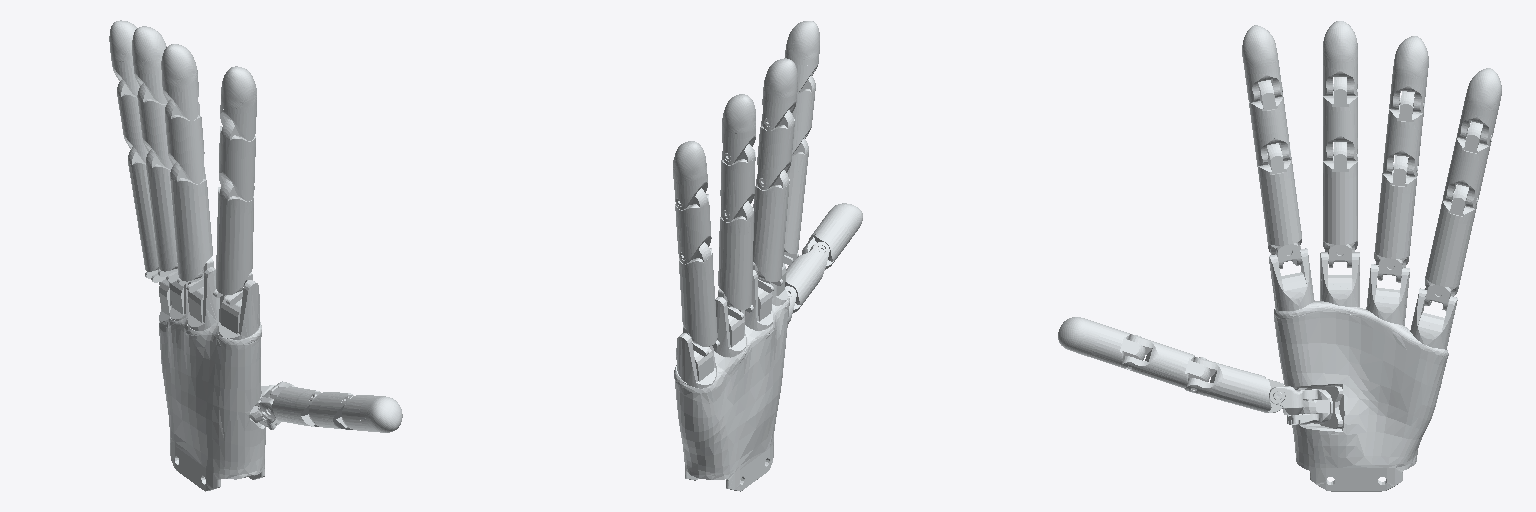
--- Render facts (derived) ---
The picture shows the robot from 3 angles, left to right: view 1: azimuth 30°, elevation 25°; view 2: azimuth 150°, elevation 25°; view 3: azimuth 270°, elevation 25°; orthographic projection.
Robot: wujihand-left-v1.0.1 — 26 links, 25 joints (20 revolute, 5 fixed); root link palm_link; default pose: every joint at zero.
Visible links, largest first — view 1: palm_link, finger3_link2, finger2_link2, finger4_link2, finger3_link3, finger2_link3, finger5_link2, finger4_link3, finger3_tip_link, finger2_tip_link, finger1_link2, finger4_tip_link (+9 smaller); view 2: palm_link, finger4_link2, finger3_link2, finger5_link2, finger3_link3, finger4_link3, finger5_link3, finger2_link2, finger1_link3, finger3_tip_link, finger2_tip_link, finger4_tip_link (+7 smaller); view 3: palm_link, finger4_link2, finger3_link2, finger5_link2, finger2_link2, finger1_link2, finger1_link3, finger3_link3, finger5_link3, finger4_link3, finger2_link3, finger2_tip_link (+10 smaller).
Link boxes in pixels (bbox=[...]): palm_link: bbox=[159, 267, 265, 491]; finger3_link2: bbox=[170, 162, 212, 281]; finger2_link2: bbox=[216, 179, 253, 294]; finger4_link2: bbox=[146, 149, 177, 271]; finger3_link3: bbox=[165, 99, 204, 183]; finger2_link3: bbox=[219, 119, 255, 201]; finger5_link2: bbox=[128, 147, 158, 271]; finger4_link3: bbox=[137, 83, 172, 169]; finger3_tip_link: bbox=[161, 44, 198, 91]; finger2_tip_link: bbox=[221, 66, 256, 113]; finger1_link2: bbox=[267, 386, 320, 426]; finger4_tip_link: bbox=[132, 26, 166, 73]; palm_link: bbox=[674, 263, 789, 491]; finger4_link2: bbox=[718, 201, 753, 309]; finger3_link2: bbox=[753, 170, 789, 281]; finger5_link2: bbox=[679, 242, 717, 346]; finger3_link3: bbox=[757, 110, 794, 189]; finger4_link3: bbox=[720, 144, 755, 221]; finger5_link3: bbox=[675, 188, 711, 263]; finger2_link2: bbox=[784, 138, 808, 253]; finger1_link3: bbox=[785, 242, 829, 313]; finger3_tip_link: bbox=[763, 58, 797, 103]; finger2_tip_link: bbox=[785, 21, 819, 65]; finger4_tip_link: bbox=[722, 94, 755, 138]; palm_link: bbox=[1269, 248, 1457, 491]; finger4_link2: bbox=[1374, 155, 1416, 268]; finger3_link2: bbox=[1323, 142, 1357, 254]; finger5_link2: bbox=[1425, 184, 1476, 296]; finger2_link2: bbox=[1257, 143, 1301, 254]; finger1_link2: bbox=[1185, 357, 1283, 412]; finger1_link3: bbox=[1121, 334, 1210, 390]; finger3_link3: bbox=[1323, 77, 1357, 160]; finger5_link3: bbox=[1443, 121, 1490, 208]; finger4_link3: bbox=[1383, 91, 1423, 176]; finger2_link3: bbox=[1249, 80, 1291, 165]; finger2_tip_link: bbox=[1242, 25, 1278, 73].
Bounding box of the posed robot: 0.0489 × 0.1895 × 0.2057 m (x, y, z).
26 mesh visuals loaded from 26 distinct referenced files (26 binary STL).

The robot description file, URDF, robot "wujihand-left-v1.0.1":
<?xml version="1.0" encoding="utf-8"?>
<robot
  name="wujihand-left-v1.0.1">
  <link
    name="palm_link">
    <inertial>
      <origin
        xyz="-0.0029386 -0.0006128 0.036666"
        rpy="0 0 0" />
      <mass
        value="0.2179" />
      <inertia
        ixx="0.00066022"
        ixy="-2.5411E-06"
        ixz="2.4318E-05"
        iyy="0.0004381"
        iyz="4.5375E-05"
        izz="0.00029633" />
    </inertial>
    <visual>
      <origin
        xyz="0 0 0"
        rpy="0 0 0" />
      <geometry>
        <mesh
          filename="../meshes/left/palm_link.STL" />
      </geometry>
      <material
        name="">
        <color
          rgba="0.89804 0.91765 0.92941 1" />
      </material>
    </visual>
    <collision>
      <origin
        xyz="0 0 0"
        rpy="0 0 0" />
      <geometry>
        <mesh
          filename="../meshes/left/palm_link.STL" />
      </geometry>
    </collision>
  </link>
  <link
    name="finger1_link1">
    <inertial>
      <origin
        xyz="0.0077866 -0.0015915 0.0021115"
        rpy="0 0 0" />
      <mass
        value="0.0075" />
      <inertia
        ixx="3.7774E-07"
        ixy="-1.5296E-08"
        ixz="-7.9605E-08"
        iyy="4.5047E-07"
        iyz="-7.7314E-09"
        izz="4.0193E-07" />
    </inertial>
    <visual>
      <origin
        xyz="0 0 0"
        rpy="0 0 0" />
      <geometry>
        <mesh
          filename="../meshes/left/finger1_link1.STL" />
      </geometry>
      <material
        name="">
        <color
          rgba="0.89804 0.91765 0.92941 1" />
      </material>
    </visual>
    <collision>
      <origin
        xyz="0 0 0"
        rpy="0 0 0" />
      <geometry>
        <mesh
          filename="../meshes/left/finger1_link1.STL" />
      </geometry>
    </collision>
  </link>
  <joint
    name="finger1_joint1"
    type="revolute">
    <origin
      xyz="0.0085244 -0.020575 0.028712"
      rpy="0.38179 -0.2259 -0.92978" />
    <parent
      link="palm_link" />
    <child
      link="finger1_link1" />
    <axis
      xyz="0 0 1" />
    <limit
      lower="-0.0448"
      upper="1.6508"
      effort="0.6"
      velocity="8.587" />
  </joint>
  <link
    name="finger1_link2">
    <inertial>
      <origin
        xyz="0.015665 0.0011444 2.8617E-05"
        rpy="0 0 0" />
      <mass
        value="0.0248" />
      <inertia
        ixx="1.1847E-06"
        ixy="2.639E-08"
        ixz="-1.9577E-08"
        iyy="4.7918E-06"
        iyz="-3.0153E-08"
        izz="4.8942E-06" />
    </inertial>
    <visual>
      <origin
        xyz="0 0 0"
        rpy="0 0 0" />
      <geometry>
        <mesh
          filename="../meshes/left/finger1_link2.STL" />
      </geometry>
      <material
        name="">
        <color
          rgba="0.89804 0.91765 0.92941 1" />
      </material>
    </visual>
    <collision>
      <origin
        xyz="0 0 0"
        rpy="0 0 0" />
      <geometry>
        <mesh
          filename="../meshes/left/finger1_link2.STL" />
      </geometry>
    </collision>
  </link>
  <joint
    name="finger1_joint2"
    type="revolute">
    <origin
      xyz="0.014132 -0.0047549 0.0060191"
      rpy="-1.6442 -0.32223 -0.53456" />
    <parent
      link="finger1_link1" />
    <child
      link="finger1_link2" />
    <axis
      xyz="0 0 -1" />
    <limit
      lower="-0.1659"
      upper="0.9339"
      effort="0.6"
      velocity="11.1" />
  </joint>
  <link
    name="finger1_link3">
    <inertial>
      <origin
        xyz="0.013057 -0.0011233 1.7104E-05"
        rpy="0 0 0" />
      <mass
        value="0.0165" />
      <inertia
        ixx="9.7983E-07"
        ixy="-4.8256E-08"
        ixz="2.8279E-09"
        iyy="3.1725E-06"
        iyz="-5.5362E-11"
        izz="3.1014E-06" />
    </inertial>
    <visual>
      <origin
        xyz="0 0 0"
        rpy="0 0 0" />
      <geometry>
        <mesh
          filename="../meshes/left/finger1_link3.STL" />
      </geometry>
      <material
        name="">
        <color
          rgba="0.89804 0.91765 0.92941 1" />
      </material>
    </visual>
    <collision>
      <origin
        xyz="0 0 0"
        rpy="0 0 0" />
      <geometry>
        <mesh
          filename="../meshes/left/finger1_link3.STL" />
      </geometry>
    </collision>
  </link>
  <joint
    name="finger1_joint3"
    type="revolute">
    <origin
      xyz="0.034664 0.00018873 0.0009916"
      rpy="1.909 -6.6317E-05 -0.052012" />
    <parent
      link="finger1_link2" />
    <child
      link="finger1_link3" />
    <axis
      xyz="0 0 1" />
    <limit
      lower="-0.4932"
      upper="1.6272"
      effort="0.3"
      velocity="12.863" />
  </joint>
  <link
    name="finger1_link4">
    <inertial>
      <origin
        xyz="0.0082112 -0.0011922 -0.00023586"
        rpy="0 0 0" />
      <mass
        value="0.0165" />
      <inertia
        ixx="6.2056E-07"
        ixy="-1.5552E-08"
        ixz="2.78E-09"
        iyy="1.0613E-06"
        iyz="-4.1371E-10"
        izz="1.0896E-06" />
    </inertial>
    <visual>
      <origin
        xyz="0 0 0"
        rpy="0 0 0" />
      <geometry>
        <mesh
          filename="../meshes/left/finger1_link4.STL" />
      </geometry>
      <material
        name="">
        <color
          rgba="0.89804 0.91765 0.92941 1" />
      </material>
    </visual>
    <collision>
      <origin
        xyz="0 0 0"
        rpy="0 0 0" />
      <geometry>
        <mesh
          filename="../meshes/left/finger1_link4.STL" />
      </geometry>
    </collision>
  </link>
  <joint
    name="finger1_joint4"
    type="revolute">
    <origin
      xyz="0.0295 0 0.00025125"
      rpy="0 0 0" />
    <parent
      link="finger1_link3" />
    <child
      link="finger1_link4" />
    <axis
      xyz="0 0 1" />
    <limit
      lower="-0.4932"
      upper="1.6272"
      effort="0.3"
      velocity="13.579" />
  </joint>
  <link
    name="finger1_tip_link">
    <inertial>
      <origin
        xyz="-0.0041779 -0.00018195 -7.9626E-06"
        rpy="0 0 0" />
      <mass
        value="0.004" />
      <inertia
        ixx="4.8332E-07"
        ixy="2.015E-08"
        ixz="-3.722E-12"
        iyy="5.4735E-07"
        iyz="1.4833E-11"
        izz="5.4481E-07" />
    </inertial>
    <visual>
      <origin
        xyz="0 0 0"
        rpy="0 0 0" />
      <geometry>
        <mesh
          filename="../meshes/left/finger1_tip_link.STL" />
      </geometry>
      <material
        name="">
        <color
          rgba="0.89804 0.91765 0.92941 1" />
      </material>
    </visual>
    <collision>
      <origin
        xyz="0 0 0"
        rpy="0 0 0" />
      <geometry>
        <mesh
          filename="../meshes/left/finger1_tip_link.STL" />
      </geometry>
    </collision>
  </link>
  <joint
    name="finger1_tip_fixed"
    type="fixed">
    <origin
      xyz="0.0283 -0.0010446 -0.00024656"
      rpy="0 0 0" />
    <parent
      link="finger1_link4" />
    <child
      link="finger1_tip_link" />
    <axis
      xyz="0 0 0" />
  </joint>
  <link
    name="finger2_link1">
    <inertial>
      <origin
        xyz="8.5597E-09 0.0013292 0.00031986"
        rpy="0 0 0" />
      <mass
        value="0.0032" />
      <inertia
        ixx="6.6291E-08"
        ixy="2.8907E-13"
        ixz="2.0012E-14"
        iyy="7.6187E-08"
        iyz="2.3233E-08"
        izz="7.0732E-08" />
    </inertial>
    <visual>
      <origin
        xyz="0 0 0"
        rpy="0 0 0" />
      <geometry>
        <mesh
          filename="../meshes/left/finger2_link1.STL" />
      </geometry>
      <material
        name="">
        <color
          rgba="0.89804 0.91765 0.92941 1" />
      </material>
    </visual>
    <collision>
      <origin
        xyz="0 0 0"
        rpy="0 0 0" />
      <geometry>
        <mesh
          filename="../meshes/left/finger2_link1.STL" />
      </geometry>
    </collision>
  </link>
  <joint
    name="finger2_joint1"
    type="revolute">
    <origin
      xyz="-0.0058701 -0.029434 0.091917"
      rpy="-0.071558 -0.11043 1.7969" />
    <parent
      link="palm_link" />
    <child
      link="finger2_link1" />
    <axis
      xyz="1 0 0" />
    <limit
      lower="-0.32695"
      upper="1.636"
      effort="1"
      velocity="8.203" />
  </joint>
  <link
    name="finger2_link2">
    <inertial>
      <origin
        xyz="0.020911 4.1956E-07 -0.0061576"
        rpy="0 0 0" />
      <mass
        value="0.033" />
      <inertia
        ixx="1.6351E-06"
        ixy="-4.5296E-10"
        ixz="-2.9306E-07"
        iyy="1.1709E-05"
        iyz="4.685E-11"
        izz="1.1667E-05" />
    </inertial>
    <visual>
      <origin
        xyz="0 0 0"
        rpy="0 0 0" />
      <geometry>
        <mesh
          filename="../meshes/left/finger2_link2.STL" />
      </geometry>
      <material
        name="">
        <color
          rgba="0.89804 0.91765 0.92941 1" />
      </material>
    </visual>
    <collision>
      <origin
        xyz="0 0 0"
        rpy="0 0 0" />
      <geometry>
        <mesh
          filename="../meshes/left/finger2_link2.STL" />
      </geometry>
    </collision>
  </link>
  <joint
    name="finger2_joint2"
    type="revolute">
    <origin
      xyz="0 -0.0022 0.004"
      rpy="1.5708 -1.5708 0" />
    <parent
      link="finger2_link1" />
    <child
      link="finger2_link2" />
    <axis
      xyz="0 0 -1" />
    <limit
      lower="-0.495"
      upper="0.495"
      effort="0.2"
      velocity="8.1158" />
  </joint>
  <link
    name="finger2_link3">
    <inertial>
      <origin
        xyz="0.015762 -0.0011212 4.4346E-06"
        rpy="0 0 0" />
      <mass
        value="0.0165" />
      <inertia
        ixx="1.2547E-07"
        ixy="9.7115E-09"
        ixz="3.5406E-10"
        iyy="4.1467E-07"
        iyz="-5.2912E-12"
        izz="4.0546E-07" />
    </inertial>
    <visual>
      <origin
        xyz="0 0 0"
        rpy="0 0 0" />
      <geometry>
        <mesh
          filename="../meshes/left/finger2_link3.STL" />
      </geometry>
      <material
        name="">
        <color
          rgba="0.89804 0.91765 0.92941 1" />
      </material>
    </visual>
    <collision>
      <origin
        xyz="0 0 0"
        rpy="0 0 0" />
      <geometry>
        <mesh
          filename="../meshes/left/finger2_link3.STL" />
      </geometry>
    </collision>
  </link>
  <joint
    name="finger2_joint3"
    type="revolute">
    <origin
      xyz="0.043618 0 -0.00475"
      rpy="1.5705 0 0" />
    <parent
      link="finger2_link2" />
    <child
      link="finger2_link3" />
    <axis
      xyz="0 0 1" />
    <limit
      lower="-0.4932"
      upper="1.6272"
      effort="0.3"
      velocity="12.863" />
  </joint>
  <link
    name="finger2_link4">
    <inertial>
      <origin
        xyz="0.0053515 -0.0008941 1.728E-05"
        rpy="0 0 0" />
      <mass
        value="0.014" />
      <inertia
        ixx="3.1641E-07"
        ixy="1.2437E-08"
        ixz="6.7383E-10"
        iyy="3.8841E-07"
        iyz="6.4931E-11"
        izz="2.7389E-07" />
    </inertial>
    <visual>
      <origin
        xyz="0 0 0"
        rpy="0 0 0" />
      <geometry>
        <mesh
          filename="../meshes/left/finger2_link4.STL" />
      </geometry>
      <material
        name="">
        <color
          rgba="0.89804 0.91765 0.92941 1" />
      </material>
    </visual>
    <collision>
      <origin
        xyz="0 0 0"
        rpy="0 0 0" />
      <geometry>
        <mesh
          filename="../meshes/left/finger2_link4.STL" />
      </geometry>
    </collision>
  </link>
  <joint
    name="finger2_joint4"
    type="revolute">
    <origin
      xyz="0.0295 0 0"
      rpy="0 0 0" />
    <parent
      link="finger2_link3" />
    <child
      link="finger2_link4" />
    <axis
      xyz="0 0 1" />
    <limit
      lower="-0.4932"
      upper="1.6272"
      effort="0.3"
      velocity="13.579" />
  </joint>
  <link
    name="finger2_tip_link">
    <inertial>
      <origin
        xyz="-0.008611 -0.00020326 1.4382E-06"
        rpy="0 0 0" />
      <mass
        value="0.004" />
      <inertia
        ixx="4.7341E-07"
        ixy="2.4342E-08"
        ixz="-1.6843E-10"
        iyy="6.4345E-07"
        iyz="4.3043E-11"
        izz="6.3746E-07" />
    </inertial>
    <visual>
      <origin
        xyz="0 0 0"
        rpy="0 0 0" />
      <geometry>
        <mesh
          filename="../meshes/left/finger2_tip_link.STL" />
      </geometry>
      <material
        name="">
        <color
          rgba="0.89804 0.91765 0.92941 1" />
      </material>
    </visual>
    <collision>
      <origin
        xyz="0 0 0"
        rpy="0 0 0" />
      <geometry>
        <mesh
          filename="../meshes/left/finger2_tip_link.STL" />
      </geometry>
    </collision>
  </link>
  <joint
    name="finger2_tip_fixed"
    type="fixed">
    <origin
      xyz="0.0267 -0.00105 0"
      rpy="0 0 0" />
    <parent
      link="finger2_link4" />
    <child
      link="finger2_tip_link" />
    <axis
      xyz="0 0 0" />
  </joint>
  <link
    name="finger3_link1">
    <inertial>
      <origin
        xyz="8.8518E-09 0.0013292 0.00031987"
        rpy="0 0 0" />
      <mass
        value="0.0032" />
      <inertia
        ixx="6.6291E-08"
        ixy="1.9964E-13"
        ixz="3.1051E-14"
        iyy="7.6187E-08"
        iyz="2.3233E-08"
        izz="7.0732E-08" />
    </inertial>
    <visual>
      <origin
        xyz="0 0 0"
        rpy="0 0 0" />
      <geometry>
        <mesh
          filename="../meshes/left/finger3_link1.STL" />
      </geometry>
      <material
        name="">
        <color
          rgba="0.89804 0.91765 0.92941 1" />
      </material>
    </visual>
    <collision>
      <origin
        xyz="0 0 0"
        rpy="0 0 0" />
      <geometry>
        <mesh
          filename="../meshes/left/finger3_link1.STL" />
      </geometry>
    </collision>
  </link>
  <joint
    name="finger3_joint1"
    type="revolute">
    <origin
      xyz="-0.01046 -0.0074615 0.089544"
      rpy="-0.087266 -5.0693E-05 1.5702" />
    <parent
      link="palm_link" />
    <child
      link="finger3_link1" />
    <axis
      xyz="1 0 0" />
    <limit
      lower="-0.32695"
      upper="1.63595"
      effort="1"
      velocity="8.203" />
  </joint>
  <link
    name="finger3_link2">
    <inertial>
      <origin
        xyz="0.020911 4.1751E-07 -0.0061576"
        rpy="0 0 0" />
      <mass
        value="0.033" />
      <inertia
        ixx="1.6351E-06"
        ixy="-4.5421E-10"
        ixz="-2.9307E-07"
        iyy="1.1709E-05"
        iyz="4.5277E-11"
        izz="1.1667E-05" />
    </inertial>
    <visual>
      <origin
        xyz="0 0 0"
        rpy="0 0 0" />
      <geometry>
        <mesh
          filename="../meshes/left/finger3_link2.STL" />
      </geometry>
      <material
        name="">
        <color
          rgba="0.89804 0.91765 0.92941 1" />
      </material>
    </visual>
    <collision>
      <origin
        xyz="0 0 0"
        rpy="0 0 0" />
      <geometry>
        <mesh
          filename="../meshes/left/finger3_link2.STL" />
      </geometry>
    </collision>
  </link>
  <joint
    name="finger3_joint2"
    type="revolute">
    <origin
      xyz="0 -0.0022 0.004"
      rpy="1.5708 -1.5708 0" />
    <parent
      link="finger3_link1" />
    <child
      link="finger3_link2" />
    <axis
      xyz="0 0 -1" />
    <limit
      lower="-0.495"
      upper="0.495"
      effort="0.2"
      velocity="8.115" />
  </joint>
  <link
    name="finger3_link3">
    <inertial>
      <origin
        xyz="0.015762 -0.0011212 4.4348E-06"
        rpy="0 0 0" />
      <mass
        value="0.0165" />
      <inertia
        ixx="9.7867E-07"
        ixy="7.575E-08"
        ixz="2.7623E-09"
        iyy="3.2344E-06"
        iyz="-4.1476E-11"
        izz="3.1626E-06" />
    </inertial>
    <visual>
      <origin
        xyz="0 0 0"
        rpy="0 0 0" />
      <geometry>
        <mesh
          filename="../meshes/left/finger3_link3.STL" />
      </geometry>
      <material
        name="">
        <color
          rgba="0.89804 0.91765 0.92941 1" />
      </material>
    </visual>
    <collision>
      <origin
        xyz="0 0 0"
        rpy="0 0 0" />
      <geometry>
        <mesh
          filename="../meshes/left/finger3_link3.STL" />
      </geometry>
    </collision>
  </link>
  <joint
    name="finger3_joint3"
    type="revolute">
    <origin
      xyz="0.043618 0 -0.00475"
      rpy="1.5705 0 0" />
    <parent
      link="finger3_link2" />
    <child
      link="finger3_link3" />
    <axis
      xyz="0 0 1" />
    <limit
      lower="-0.4932"
      upper="1.6272"
      effort="0.3"
      velocity="12.863" />
  </joint>
  <link
    name="finger3_link4">
    <inertial>
      <origin
        xyz="0.0053515 -0.0008941 1.7281E-05"
        rpy="0 0 0" />
      <mass
        value="0.014" />
      <inertia
        ixx="3.1641E-07"
        ixy="1.2437E-08"
        ixz="6.7377E-10"
        iyy="3.8841E-07"
        iyz="6.5066E-11"
        izz="2.7389E-07" />
    </inertial>
    <visual>
      <origin
        xyz="0 0 0"
        rpy="0 0 0" />
      <geometry>
        <mesh
          filename="../meshes/left/finger3_link4.STL" />
      </geometry>
      <material
        name="">
        <color
          rgba="0.89804 0.91765 0.92941 1" />
      </material>
    </visual>
    <collision>
      <origin
        xyz="0 0 0"
        rpy="0 0 0" />
      <geometry>
        <mesh
          filename="../meshes/left/finger3_link4.STL" />
      </geometry>
    </collision>
  </link>
  <joint
    name="finger3_joint4"
    type="revolute">
    <origin
      xyz="0.0295 0 0"
      rpy="0 0 0" />
    <parent
      link="finger3_link3" />
    <child
      link="finger3_link4" />
    <axis
      xyz="0 0 1" />
    <limit
      lower="-0.4932"
      upper="1.6272"
      effort="0.3"
      velocity="13.579" />
  </joint>
  <link
    name="finger3_tip_link">
    <inertial>
      <origin
        xyz="-0.0086111 -0.00020296 -1.0223E-05"
        rpy="0 0 0" />
      <mass
        value="0.004" />
      <inertia
        ixx="4.734E-07"
        ixy="2.4301E-08"
        ixz="1.2293E-09"
        iyy="6.4343E-07"
        iyz="3.8698E-10"
        izz="6.3748E-07" />
    </inertial>
    <visual>
      <origin
        xyz="0 0 0"
        rpy="0 0 0" />
      <geometry>
        <mesh
          filename="../meshes/left/finger3_tip_link.STL" />
      </geometry>
      <material
        name="">
        <color
          rgba="0.89804 0.91765 0.92941 1" />
      </material>
    </visual>
    <collision>
      <origin
        xyz="0 0 0"
        rpy="0 0 0" />
      <geometry>
        <mesh
          filename="../meshes/left/finger3_tip_link.STL" />
      </geometry>
    </collision>
  </link>
  <joint
    name="finger3_tip_fixed"
    type="fixed">
    <origin
      xyz="0.0267 -0.0010501 0"
      rpy="0 0 0" />
    <parent
      link="finger3_link4" />
    <child
      link="finger3_tip_link" />
    <axis
      xyz="0 0 0" />
  </joint>
  <link
    name="finger4_link1">
    <inertial>
      <origin
        xyz="8.6118E-09 0.0013292 0.00031987"
        rpy="0 0 0" />
      <mass
        value="0.0032" />
      <inertia
        ixx="6.6291E-08"
        ixy="1.7489E-13"
        ixz="3.6221E-14"
        iyy="7.6187E-08"
        iyz="2.3233E-08"
        izz="7.0732E-08" />
    </inertial>
    <visual>
      <origin
        xyz="0 0 0"
        rpy="0 0 0" />
      <geometry>
        <mesh
          filename="../meshes/left/finger4_link1.STL" />
      </geometry>
      <material
        name="">
        <color
          rgba="0.89804 0.91765 0.92941 1" />
      </material>
    </visual>
    <collision>
      <origin
        xyz="0 0 0"
        rpy="0 0 0" />
      <geometry>
        <mesh
          filename="../meshes/left/finger4_link1.STL" />
      </geometry>
    </collision>
  </link>
  <joint
    name="finger4_joint1"
    type="revolute">
    <origin
      xyz="-0.0076649 0.013712 0.084429"
      rpy="-0.083776 0.090059 1.5161" />
    <parent
      link="palm_link" />
    <child
      link="finger4_link1" />
    <axis
      xyz="1 0 0" />
    <limit
      lower="-0.32695"
      upper="1.63595"
      effort="1"
      velocity="8.203" />
  </joint>
  <link
    name="finger4_link2">
    <inertial>
      <origin
        xyz="0.020911 4.1777E-07 -0.0061576"
        rpy="0 0 0" />
      <mass
        value="0.033" />
      <inertia
        ixx="1.6351E-06"
        ixy="-4.5403E-10"
        ixz="-2.9307E-07"
        iyy="1.1709E-05"
        iyz="4.5361E-11"
        izz="1.1667E-05" />
    </inertial>
    <visual>
      <origin
        xyz="0 0 0"
        rpy="0 0 0" />
      <geometry>
        <mesh
          filename="../meshes/left/finger4_link2.STL" />
      </geometry>
      <material
        name="">
        <color
          rgba="0.89804 0.91765 0.92941 1" />
      </material>
    </visual>
    <collision>
      <origin
        xyz="0 0 0"
        rpy="0 0 0" />
      <geometry>
        <mesh
          filename="../meshes/left/finger4_link2.STL" />
      </geometry>
    </collision>
  </link>
  <joint
    name="finger4_joint2"
    type="revolute">
    <origin
      xyz="0 -0.0022 0.004"
      rpy="1.5708 -1.5708 0" />
    <parent
      link="finger4_link1" />
    <child
      link="finger4_link2" />
    <axis
      xyz="0 0 -1" />
    <limit
      lower="-0.495"
      upper="0.495"
      effort="0.2"
      velocity="8.1158" />
  </joint>
  <link
    name="finger4_link3">
    <inertial>
      <origin
        xyz="0.015762 -0.0011212 4.435E-06"
        rpy="0 0 0" />
      <mass
        value="0.0165" />
      <inertia
        ixx="9.7867E-07"
        ixy="7.575E-08"
        ixz="2.7625E-09"
        iyy="3.2344E-06"
        iyz="-4.1504E-11"
        izz="3.1626E-06" />
    </inertial>
    <visual>
      <origin
        xyz="0 0 0"
        rpy="0 0 0" />
      <geometry>
        <mesh
          filename="../meshes/left/finger4_link3.STL" />
      </geometry>
      <material
        name="">
        <color
          rgba="0.89804 0.91765 0.92941 1" />
      </material>
    </visual>
    <collision>
      <origin
        xyz="0 0 0"
        rpy="0 0 0" />
      <geometry>
        <mesh
          filename="../meshes/left/finger4_link3.STL" />
      </geometry>
    </collision>
  </link>
  <joint
    name="finger4_joint3"
    type="revolute">
    <origin
      xyz="0.043618 0 -0.00475"
      rpy="1.5705 0 0" />
    <parent
      link="finger4_link2" />
    <child
      link="finger4_link3" />
    <axis
      xyz="0 0 1" />
    <limit
      lower="-0.4932"
      upper="1.6272"
      effort="0.3"
      velocity="12.863" />
  </joint>
  <link
    name="finger4_link4">
    <inertial>
      <origin
        xyz="0.0053515 -0.0008941 1.7282E-05"
        rpy="0 0 0" />
      <mass
        value="0.014" />
      <inertia
        ixx="3.1641E-07"
        ixy="1.2437E-08"
        ixz="6.7382E-10"
        iyy="3.8841E-07"
        iyz="6.5108E-11"
        izz="2.7389E-07" />
    </inertial>
    <visual>
      <origin
        xyz="0 0 0"
        rpy="0 0 0" />
      <geometry>
        <mesh
          filename="../meshes/left/finger4_link4.STL" />
      </geometry>
      <material
        name="">
        <color
          rgba="0.89804 0.91765 0.92941 1" />
      </material>
    </visual>
    <collision>
      <origin
        xyz="0 0 0"
        rpy="0 0 0" />
      <geometry>
        <mesh
          filename="../meshes/left/finger4_link4.STL" />
      </geometry>
    </collision>
  </link>
  <joint
    name="finger4_joint4"
    type="revolute">
    <origin
      xyz="0.0295 0 0"
      rpy="0 0 0" />
    <parent
      link="finger4_link3" />
    <child
      link="finger4_link4" />
    <axis
      xyz="0 0 1" />
    <limit
      lower="-0.4932"
      upper="1.6272"
      effort="0.3"
      velocity="13.579" />
  </joint>
  <link
    name="finger4_tip_link">
    <inertial>
      <origin
        xyz="-0.008611 -0.0001955 5.5653E-05"
        rpy="0 0 0" />
      <mass
        value="0.004" />
      <inertia
        ixx="4.7341E-07"
        ixy="2.3414E-08"
        ixz="-6.6606E-09"
        iyy="6.4304E-07"
        iyz="-1.5033E-09"
        izz="6.3787E-07" />
    </inertial>
    <visual>
      <origin
        xyz="0 0 0"
        rpy="0 0 0" />
      <geometry>
        <mesh
          filename="../meshes/left/finger4_tip_link.STL" />
      </geometry>
      <material
        name="">
        <color
          rgba="0.89804 0.91765 0.92941 1" />
      </material>
    </visual>
    <collision>
      <origin
        xyz="0 0 0"
        rpy="0 0 0" />
      <geometry>
        <mesh
          filename="../meshes/left/finger4_tip_link.STL" />
      </geometry>
    </collision>
  </link>
  <joint
    name="finger4_tip_fixed"
    type="fixed">
    <origin
      xyz="0.0267 -0.0010573 0"
      rpy="0 0 0" />
    <parent
      link="finger4_link4" />
    <child
      link="finger4_tip_link" />
    <axis
      xyz="0 0 0" />
  </joint>
  <link
    name="finger5_link1">
    <inertial>
      <origin
        xyz="8.147E-09 0.0013292 0.00031987"
        rpy="0 0 0" />
      <mass
        value="0.0032" />
      <inertia
        ixx="6.6291E-08"
        ixy="1.2911E-13"
        ixz="4.2957E-14"
        iyy="7.6187E-08"
        iyz="2.3232E-08"
        izz="7.0732E-08" />
    </inertial>
    <visual>
      <origin
        xyz="0 0 0"
        rpy="0 0 0" />
      <geometry>
        <mesh
          filename="../meshes/left/finger5_link1.STL" />
      </geometry>
      <material
        name="">
        <color
          rgba="0.89804 0.91765 0.92941 1" />
      </material>
    </visual>
    <collision>
      <origin
        xyz="0 0 0"
        rpy="0 0 0" />
      <geometry>
        <mesh
          filename="../meshes/left/finger5_link1.STL" />
      </geometry>
    </collision>
  </link>
  <joint
    name="finger5_joint1"
    type="revolute">
    <origin
      xyz="-0.0022687 0.034001 0.074281"
      rpy="-0.094248 0.19165 1.3951" />
    <parent
      link="palm_link" />
    <child
      link="finger5_link1" />
    <axis
      xyz="1 0 0" />
    <limit
      lower="-0.32695"
      upper="1.636"
      effort="1"
      velocity="8.203" />
  </joint>
  <link
    name="finger5_link2">
    <inertial>
      <origin
        xyz="0.020911 4.2003E-07 -0.0061576"
        rpy="0 0 0" />
      <mass
        value="0.033" />
      <inertia
        ixx="1.6351E-06"
        ixy="-4.5138E-10"
        ixz="-2.9307E-07"
        iyy="1.1709E-05"
        iyz="4.5514E-11"
        izz="1.1667E-05" />
    </inertial>
    <visual>
      <origin
        xyz="0 0 0"
        rpy="0 0 0" />
      <geometry>
        <mesh
          filename="../meshes/left/finger5_link2.STL" />
      </geometry>
      <material
        name="">
        <color
          rgba="0.89804 0.91765 0.92941 1" />
      </material>
    </visual>
    <collision>
      <origin
        xyz="0 0 0"
        rpy="0 0 0" />
      <geometry>
        <mesh
          filename="../meshes/left/finger5_link2.STL" />
      </geometry>
    </collision>
  </link>
  <joint
    name="finger5_joint2"
    type="revolute">
    <origin
      xyz="0 -0.0022 0.004"
      rpy="-0.0067566 -1.5708 1.5776" />
    <parent
      link="finger5_link1" />
    <child
      link="finger5_link2" />
    <axis
      xyz="0 0 -1" />
    <limit
      lower="-0.495"
      upper="0.495"
      effort="0.2"
      velocity="8.1158" />
  </joint>
  <link
    name="finger5_link3">
    <inertial>
      <origin
        xyz="0.015762 -0.0011212 4.4351E-06"
        rpy="0 0 0" />
      <mass
        value="0.0165" />
      <inertia
        ixx="9.7867E-07"
        ixy="7.575E-08"
        ixz="2.7623E-09"
        iyy="3.2344E-06"
        iyz="-4.1485E-11"
        izz="3.1626E-06" />
    </inertial>
    <visual>
      <origin
        xyz="0 0 0"
        rpy="0 0 0" />
      <geometry>
        <mesh
          filename="../meshes/left/finger5_link3.STL" />
      </geometry>
      <material
        name="">
        <color
          rgba="0.89804 0.91765 0.92941 1" />
      </material>
    </visual>
    <collision>
      <origin
        xyz="0 0 0"
        rpy="0 0 0" />
      <geometry>
        <mesh
          filename="../meshes/left/finger5_link3.STL" />
      </geometry>
    </collision>
  </link>
  <joint
    name="finger5_joint3"
    type="revolute">
    <origin
      xyz="0.043618 0 -0.00475"
      rpy="1.5705 0 0" />
    <parent
      link="finger5_link2" />
    <child
      link="finger5_link3" />
    <axis
      xyz="0 0 1" />
    <limit
      lower="-0.4932"
      upper="1.6272"
      effort="0.3"
      velocity="12.863" />
  </joint>
  <link
    name="finger5_link4">
    <inertial>
      <origin
        xyz="0.0053515 -0.0008941 1.7282E-05"
        rpy="0 0 0" />
      <mass
        value="0.014" />
      <inertia
        ixx="3.1641E-07"
        ixy="1.2437E-08"
        ixz="6.7385E-10"
        iyy="3.8841E-07"
        iyz="6.5073E-11"
        izz="2.7389E-07" />
    </inertial>
    <visual>
      <origin
        xyz="0 0 0"
        rpy="0 0 0" />
      <geometry>
        <mesh
          filename="../meshes/left/finger5_link4.STL" />
      </geometry>
      <material
        name="">
        <color
          rgba="0.89804 0.91765 0.92941 1" />
      </material>
    </visual>
    <collision>
      <origin
        xyz="0 0 0"
        rpy="0 0 0" />
      <geometry>
        <mesh
          filename="../meshes/left/finger5_link4.STL" />
      </geometry>
    </collision>
  </link>
  <joint
    name="finger5_joint4"
    type="revolute">
    <origin
      xyz="0.0295 0 0"
      rpy="0 0 0" />
    <parent
      link="finger5_link3" />
    <child
      link="finger5_link4" />
    <axis
      xyz="0 0 1" />
    <limit
      lower="-0.4932"
      upper="1.6272"
      effort="0.3"
      velocity="13.579" />
  </joint>
  <link
    name="finger5_tip_link">
    <inertial>
      <origin
        xyz="-0.008611 -0.00020323 3.5536E-06"
        rpy="0 0 0" />
      <mass
        value="0.004" />
      <inertia
        ixx="4.7341E-07"
        ixy="2.4339E-08"
        ixz="-4.2048E-10"
        iyy="6.4345E-07"
        iyz="-1.9248E-11"
        izz="6.3746E-07" />
    </inertial>
    <visual>
      <origin
        xyz="0 0 0"
        rpy="0 0 0" />
      <geometry>
        <mesh
          filename="../meshes/left/finger5_tip_link.STL" />
      </geometry>
      <material
        name="">
        <color
          rgba="0.89804 0.91765 0.92941 1" />
      </material>
    </visual>
    <collision>
      <origin
        xyz="0 0 0"
        rpy="0 0 0" />
      <geometry>
        <mesh
          filename="../meshes/left/finger5_tip_link.STL" />
      </geometry>
    </collision>
  </link>
  <joint
    name="finger5_tip_fixed"
    type="fixed">
    <origin
      xyz="0.0267 -0.0010582 0"
      rpy="0 0 0" />
    <parent
      link="finger5_link4" />
    <child
      link="finger5_tip_link" />
    <axis
      xyz="0 0 0" />
  </joint>
</robot>
